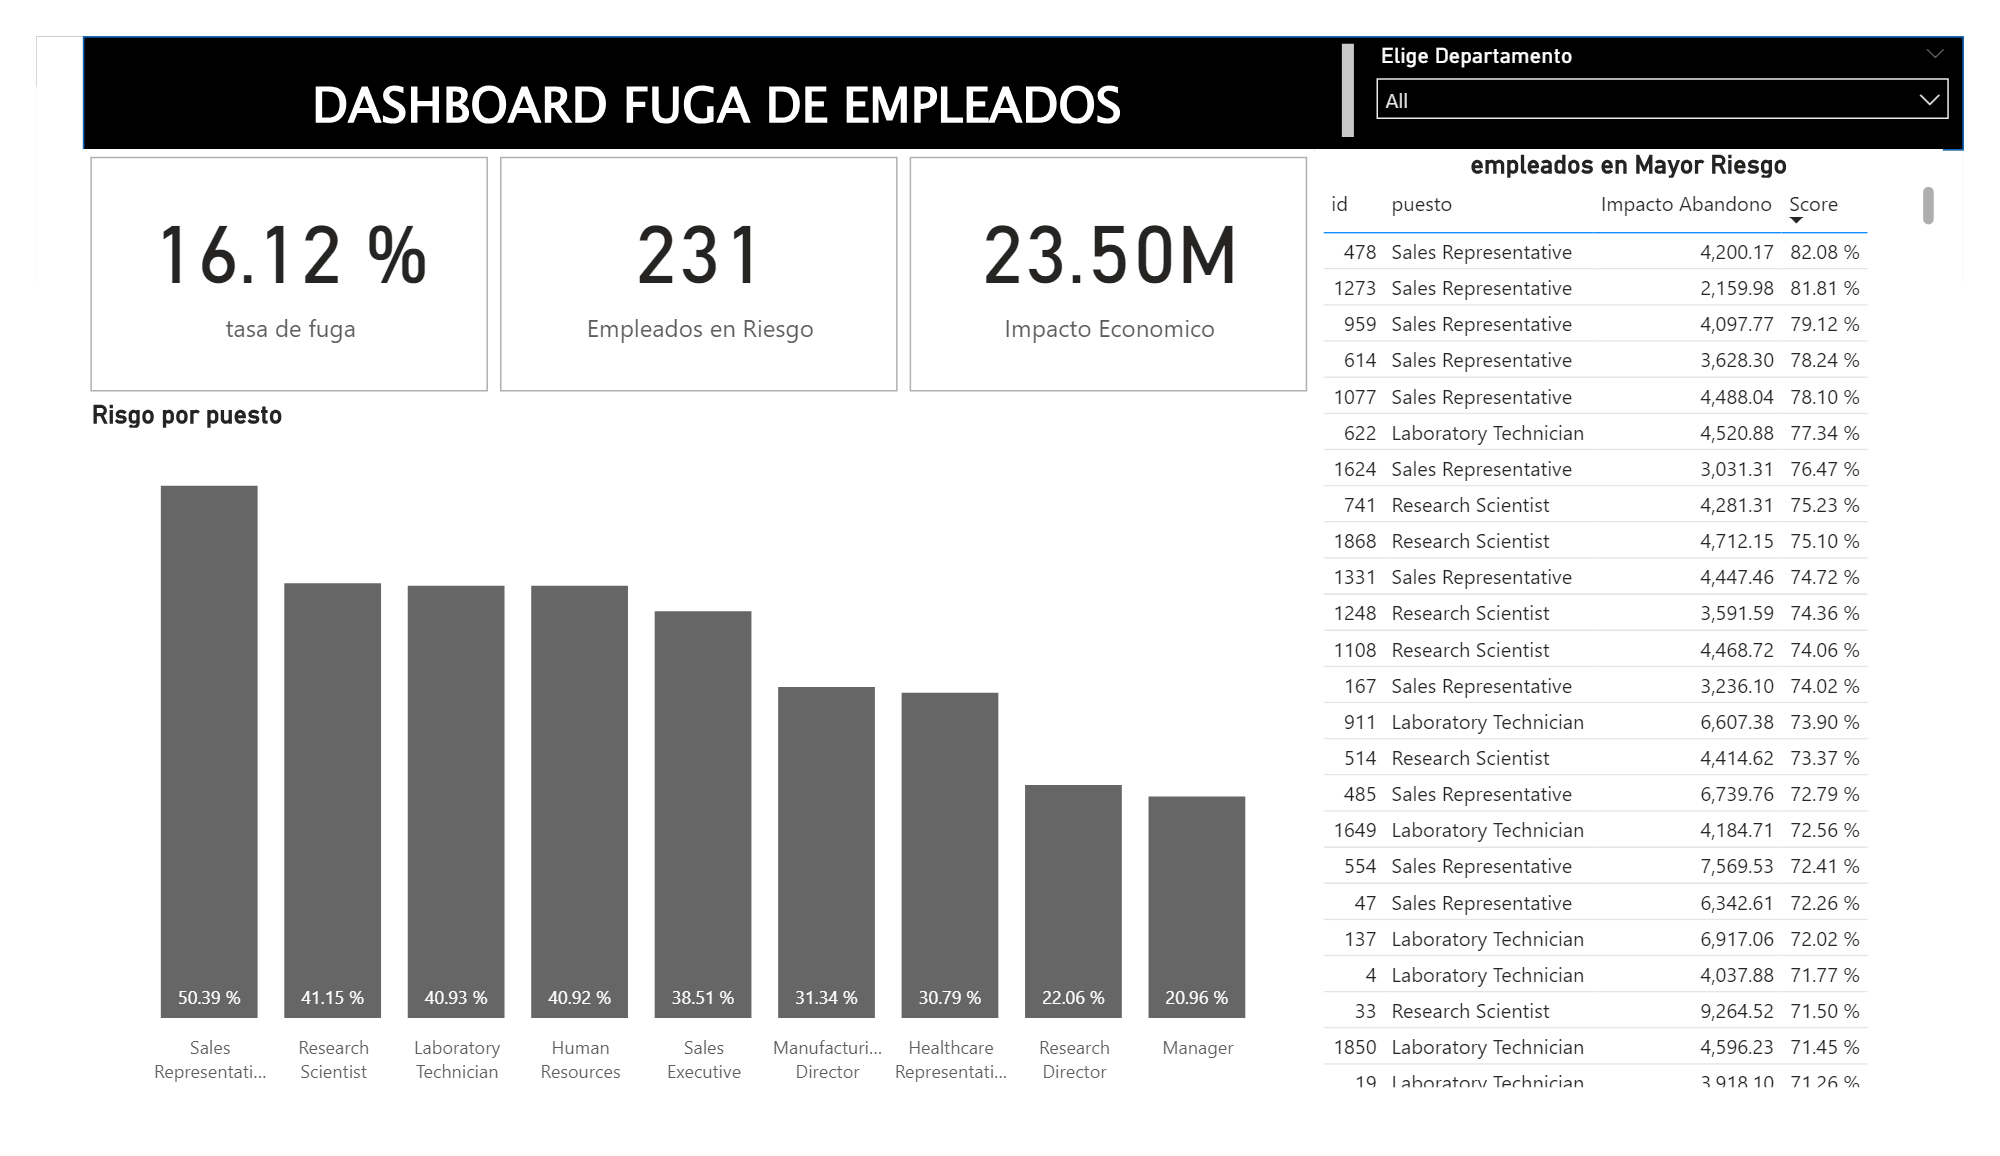

Layout of this report page (visuals, bound fields, positions):
{"tool":"powerbi","page":{"name":"Page 1","canvas":[1280,720],"ordinal":0},"visuals":[{"type":"shape","box":[30.5,0,1249.5,75.6],"z":500},{"type":"cardVisual","fields":{"Data":["score abandono.tasa de fuga","Sum(score abandono.en riesgo)","Sum(score abandono.impacto_abandono)"]},"box":[31.4,75,817.9,165.7],"z":1000},{"type":"textbox","box":[32.4,0,847.2,74.1],"z":3000},{"type":"tableEx","title":"empleados en Mayor Riesgo","fields":{"Values":["score abandono.id","score abandono.puesto","Sum(score abandono.impacto_abandono)","Sum(score abandono.score_abandono_new)"]},"box":[849.3,75,416.8,627.8],"z":4000},{"type":"clusteredColumnChart","title":"Risgo por puesto","fields":{"Category":["score abandono.puesto"],"Y":["Avg(score abandono.score_abandono_new)"]},"box":[32,241,810,462],"z":5000},{"type":"slicer","fields":{"Values":["score abandono.departamento"]},"box":[879.6,0,400.4,74.1],"z":5500}]}

Visuals, with their boxes in screenshot pixels (x1, y1, x2, y2), scaled from the page's 1280x720 canvas onto the 2000x1156 screenshot:
shape: rect(48, 0, 1999, 121)
cardVisual - score abandono.tasa de fuga x Sum(score abandono.en riesgo): rect(49, 120, 1327, 386)
textbox: rect(51, 0, 1374, 119)
"empleados en Mayor Riesgo" tableEx: rect(1327, 120, 1978, 1128)
"Risgo por puesto" clusteredColumnChart: rect(50, 387, 1316, 1129)
slicer - score abandono.departamento: rect(1374, 0, 1999, 119)
